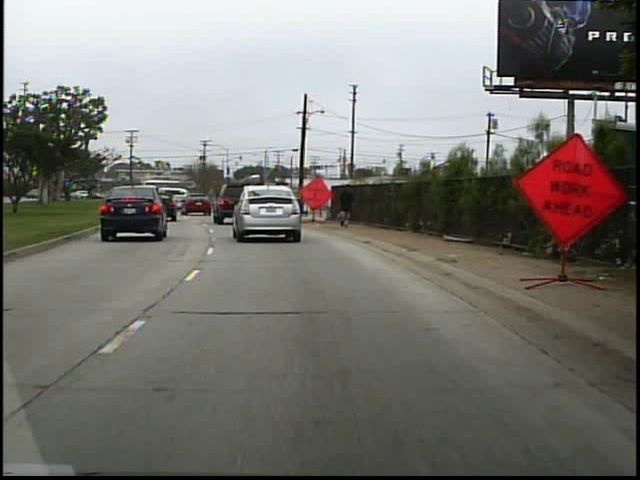person: (333, 180, 358, 230)
